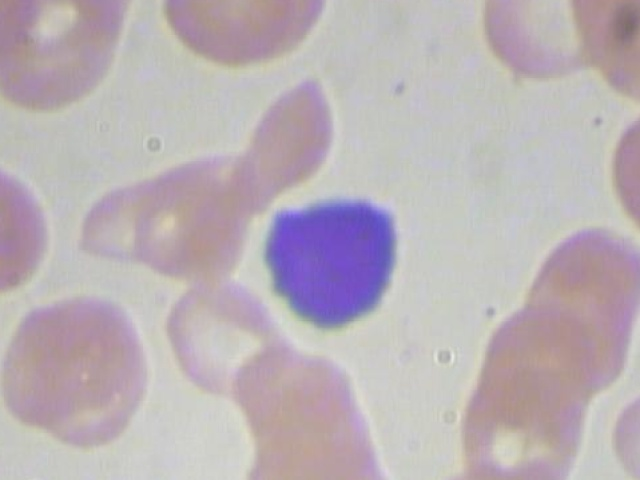RBC: (0, 296, 126, 435), (120, 150, 253, 280), (155, 273, 288, 403), (447, 363, 590, 480), (228, 68, 336, 217), (0, 0, 123, 111), (478, 0, 612, 96), (159, 0, 296, 76), (0, 157, 69, 296), (562, 0, 640, 105), (597, 101, 640, 257), (597, 368, 640, 480)
WBC: (247, 187, 415, 331)
